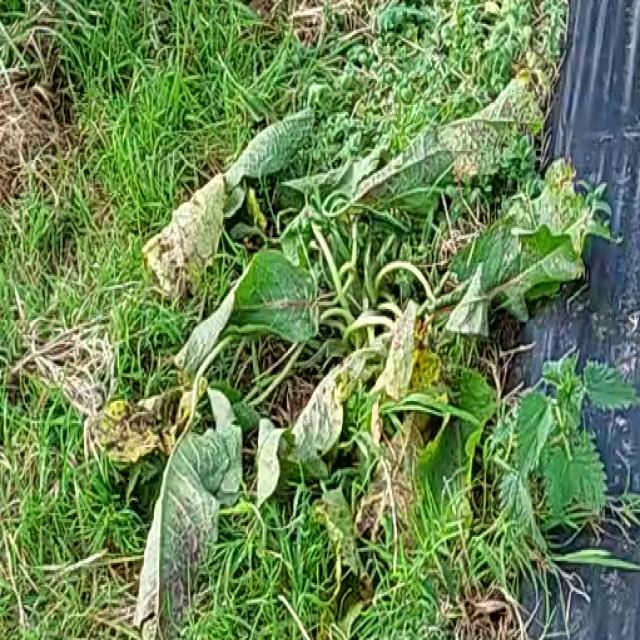organic waste: (120, 97, 578, 594)
